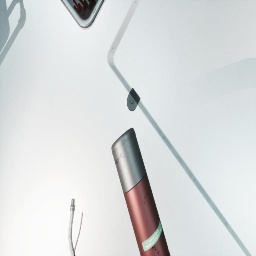NitrogenTank ,: (111, 128, 171, 256)
